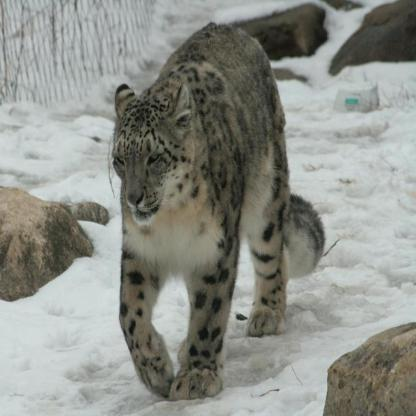leopard: (106, 71, 199, 233)
